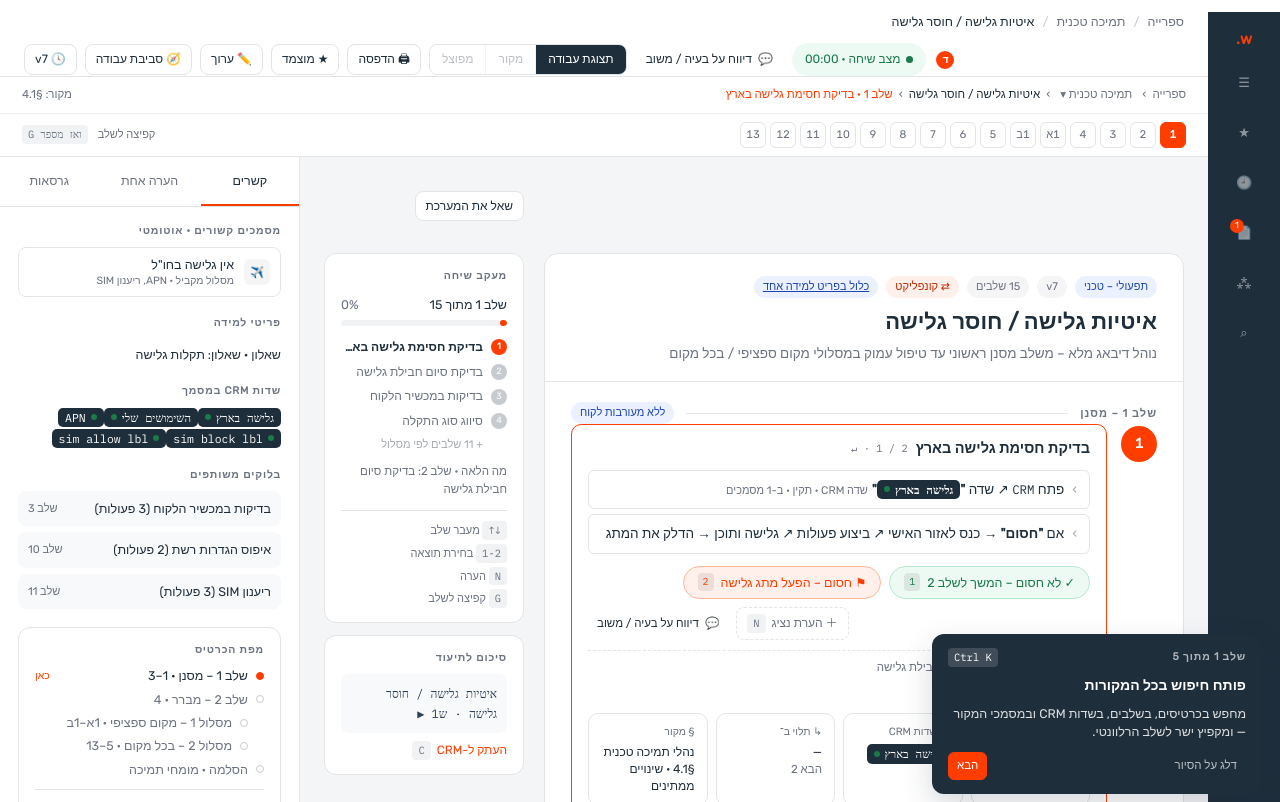
parity · hover peek › says which block the hovered document shares with this one
The width and height of the screenshot is (1280, 802).
Expected: the heading "איטיות גלישה / חוסר גלישה" is shown, [885, 308, 1157, 335]
Hover over the link with class "rel" at (150, 272), box [18, 247, 281, 297]
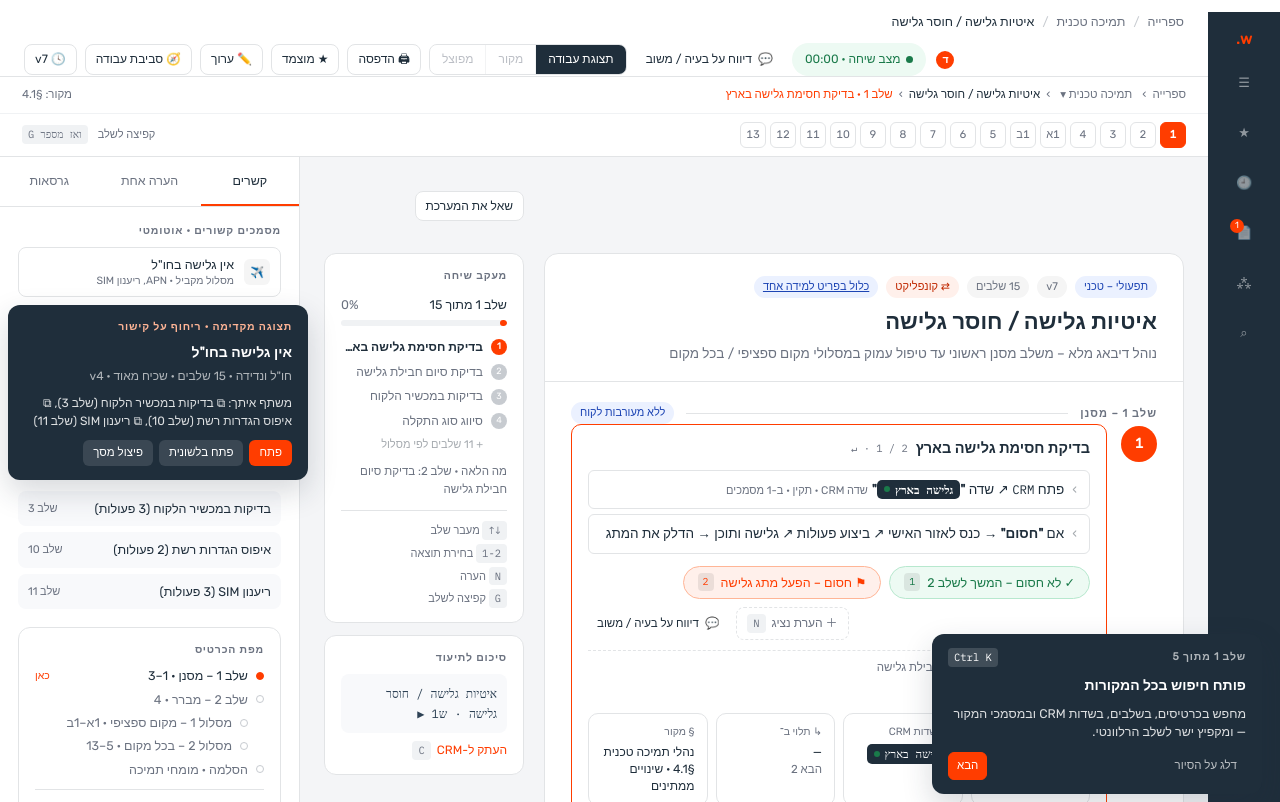
Result: the text "משתף איתך" is shown at [34, 396, 292, 428]
Result: the text "⧉ ריענון SIM" is shown at [34, 396, 292, 428]
